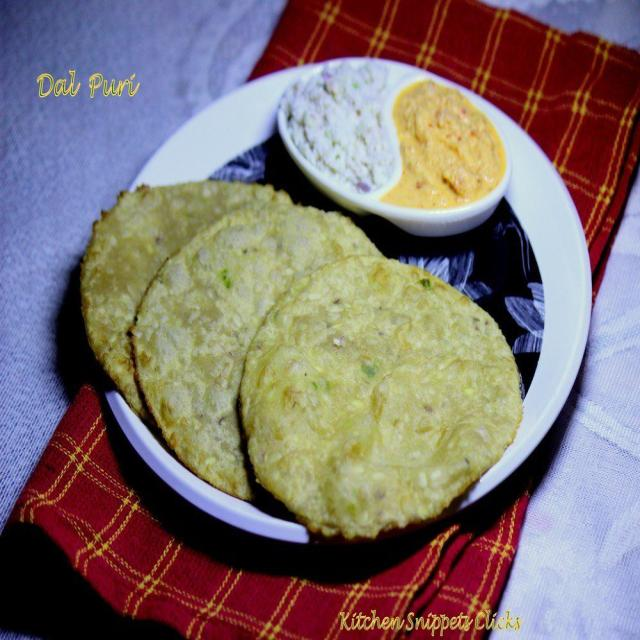Wet Waste: (77, 174, 382, 494), (227, 250, 520, 539)
